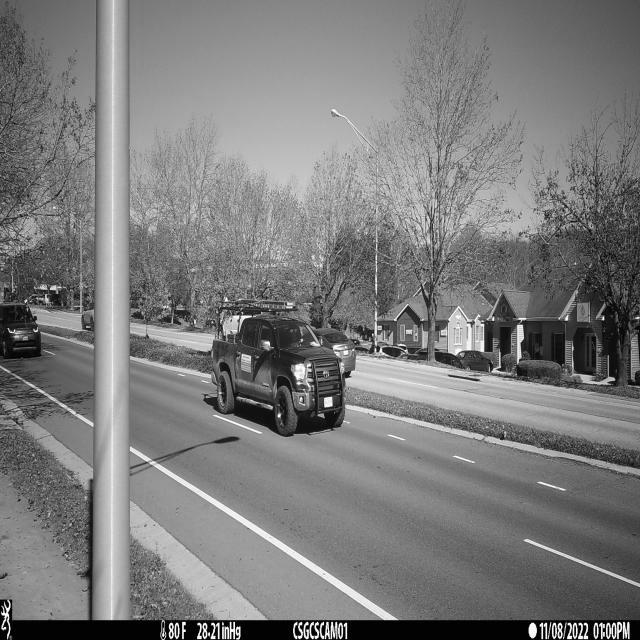Pickup: (212, 298, 347, 438)
